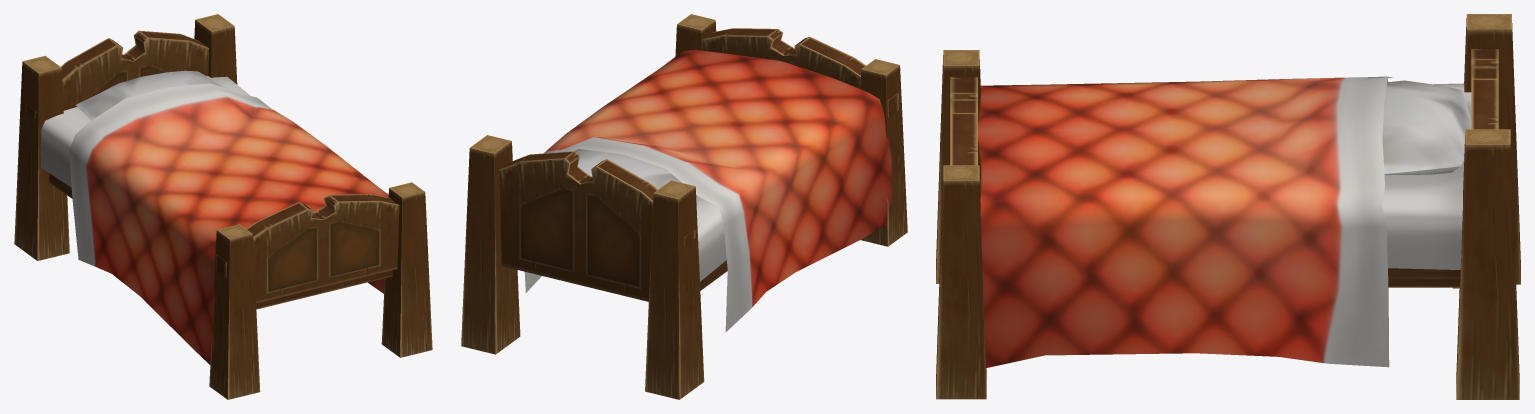
The model's file is assets_bed.fbx.
3 renders of one model, left to right at view 1: azimuth 30°, elevation 25°; view 2: azimuth 150°, elevation 25°; view 3: azimuth 270°, elevation 25°, orthographic. The views are drawn at different scales.
Parts seen in each view (by area): view 1: assets_bed; view 2: assets_bed; view 3: assets_bed.
Boxes of the visible parts, x1,y1,x2,y2 form: assets_bed: [14, 14, 432, 399]; assets_bed: [461, 14, 907, 399]; assets_bed: [936, 14, 1520, 399].
Bounding box in the file's own units: 13.38 × 11.94 × 24.17.
